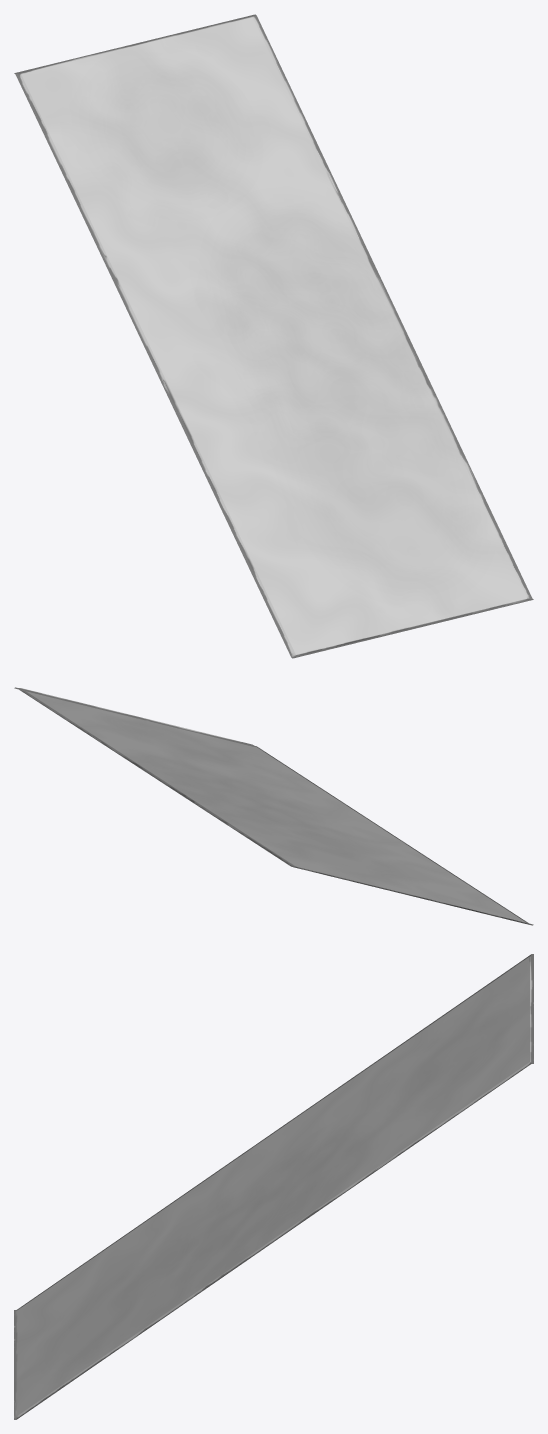
Rendered from Pandus.glb.
3 renders of one model, top to bottom at view 1: azimuth 30°, elevation 25°; view 2: azimuth 150°, elevation 25°; view 3: azimuth 270°, elevation 25°, orthographic. The views are drawn at different scales.
Parts seen in each view (by area): view 1: Pandus; view 2: Pandus; view 3: Pandus.
Part boxes in pixels (x1,y1,x2,y2): Pandus: (14, 14, 533, 658); Pandus: (14, 687, 533, 925); Pandus: (14, 954, 533, 1419).
Bounding box in the file's own units: 2 × 3.02 × 4.
Materials: 1 (1 with a texture image).
